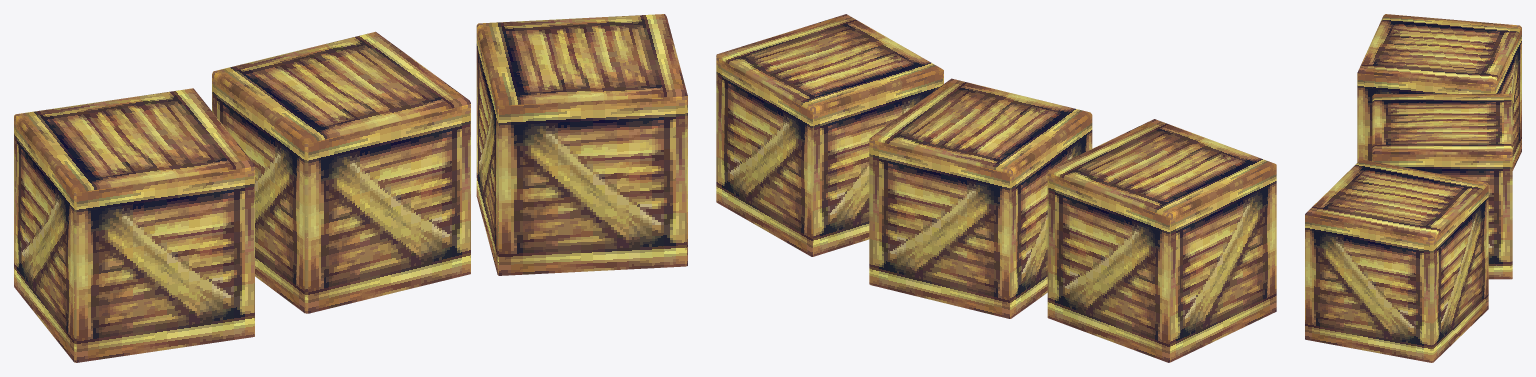
Rendered from wbox48-4.glb.
3 renders of one model, left to right at view 1: azimuth 30°, elevation 25°; view 2: azimuth 150°, elevation 25°; view 3: azimuth 270°, elevation 25°, orthographic. The views are drawn at different scales.
Parts seen in each view (by area): view 1: wbox48_4; view 2: wbox48_4; view 3: wbox48_4.
Boxes of the visible parts, x1=… form: wbox48_4: x1=14, y1=14, x2=687, y2=362; wbox48_4: x1=716, y1=14, x2=1276, y2=362; wbox48_4: x1=1305, y1=14, x2=1521, y2=362.
Size of the model in its own units: 526 by 139 by 216.
2 materials, 2 textured.
